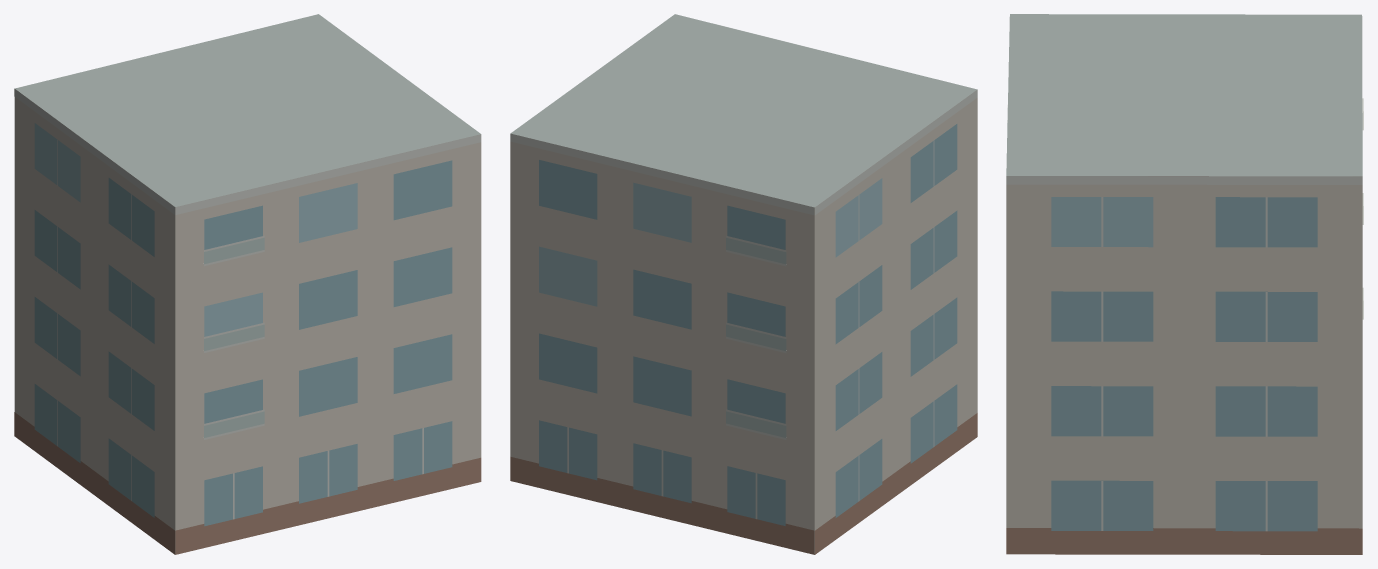
Rendered from survey-upis-32701342.glb.
3 views of the same model, side by side, from view 1: azimuth 30°, elevation 25°; view 2: azimuth 150°, elevation 25°; view 3: azimuth 270°, elevation 25° (orthographic). The views are drawn at different scales.
Visible parts, largest first — view 1: survey-upis-32701342.tmp; view 2: survey-upis-32701342.tmp; view 3: survey-upis-32701342.tmp.
Part boxes in pixels (left/top/right/bottom): survey-upis-32701342.tmp: left=14, top=14, right=481, bottom=554; survey-upis-32701342.tmp: left=510, top=14, right=977, bottom=554; survey-upis-32701342.tmp: left=1006, top=14, right=1363, bottom=554.
Bounding box in the file's own units: 9.76 × 10.6 × 9.08.
